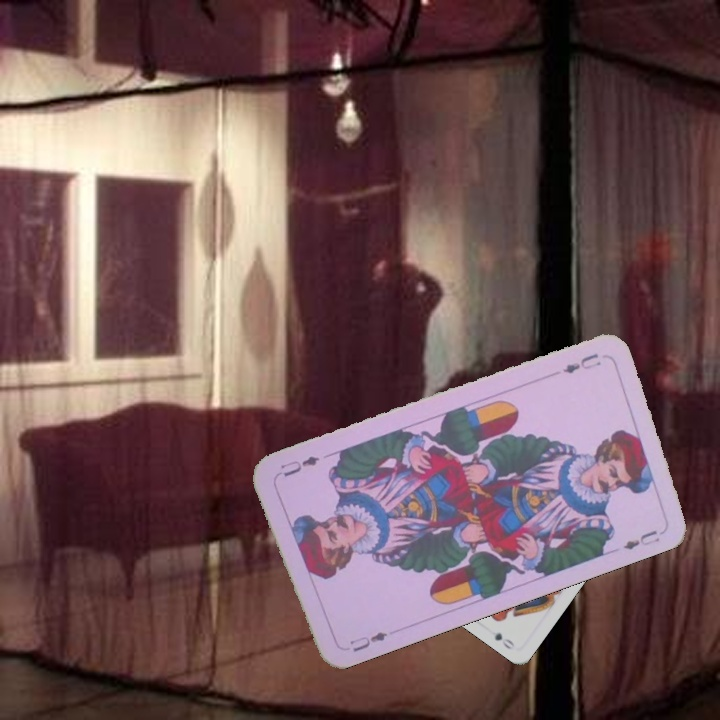EU: (345, 627, 390, 655), (559, 349, 603, 376)
